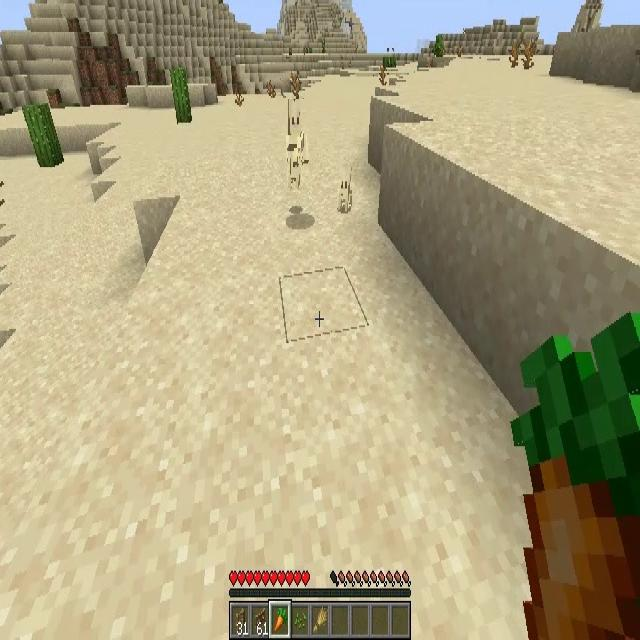rabbit: (286, 99, 306, 160), (338, 172, 352, 214), (288, 148, 302, 188)
